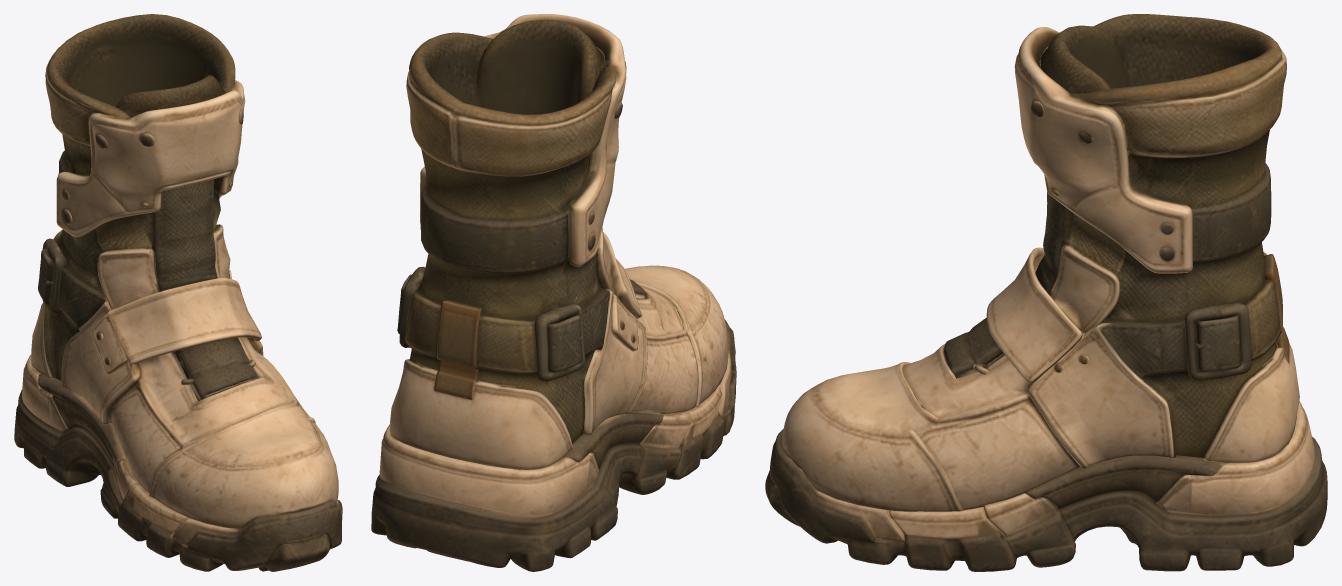
The model's file is tactical_combat_boot_3d_model.fbx.
3 views of the same model, side by side, from view 1: azimuth 30°, elevation 25°; view 2: azimuth 150°, elevation 25°; view 3: azimuth 270°, elevation 25° (orthographic). The views are drawn at different scales.
Visible parts, largest first — view 1: tripo_node_65b1e792-65ed-4a78-a472-4c69d9ce5796; view 2: tripo_node_65b1e792-65ed-4a78-a472-4c69d9ce5796; view 3: tripo_node_65b1e792-65ed-4a78-a472-4c69d9ce5796.
Boxes of the visible parts, x1=… form: tripo_node_65b1e792-65ed-4a78-a472-4c69d9ce5796: x1=14, y1=14, x2=342, y2=571; tripo_node_65b1e792-65ed-4a78-a472-4c69d9ce5796: x1=371, y1=14, x2=736, y2=571; tripo_node_65b1e792-65ed-4a78-a472-4c69d9ce5796: x1=765, y1=14, x2=1327, y2=571.
Size of the model in its own units: 0.1503 by 0.3387 by 0.35.
Materials: 1 (1 with a texture image).
